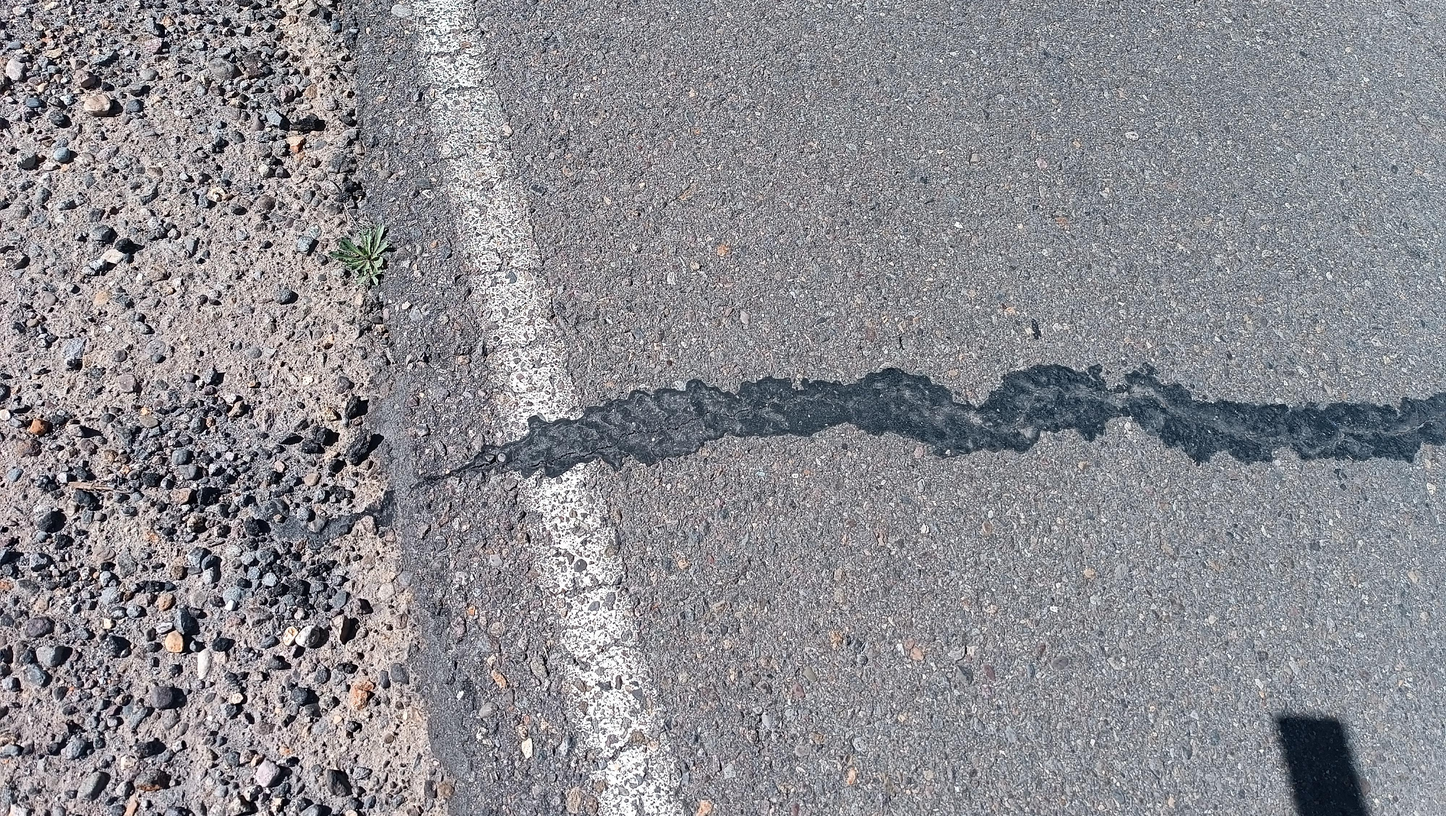GRIETA: (505, 402, 773, 468)
